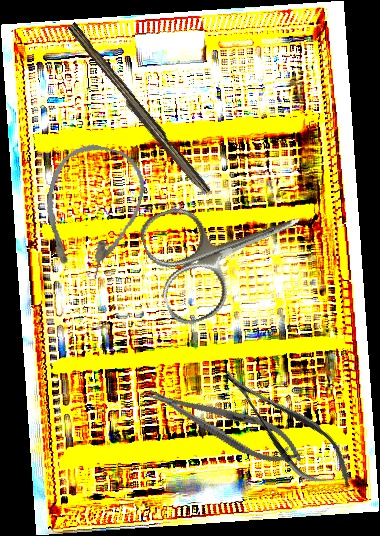Cannula: (29, 136, 153, 286)
Iris Scissors: (135, 167, 320, 331)
Micro Scissor: (209, 352, 365, 506)
Needle Holder: (140, 373, 311, 476)
Scalpel Handle: (62, 22, 214, 198)
